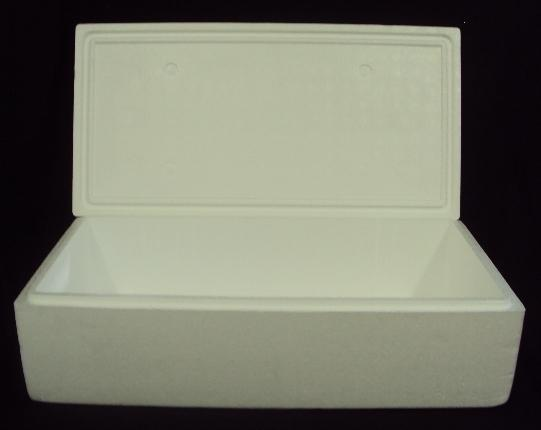Boxes: (15, 24, 525, 407)
